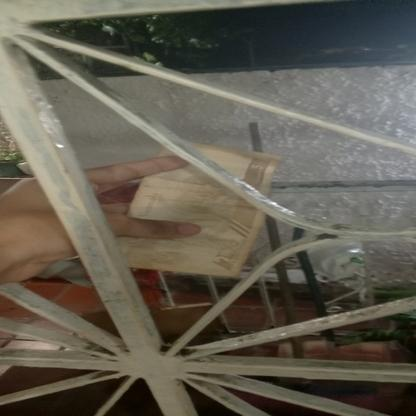five-back-vef: (115, 142, 281, 276)
